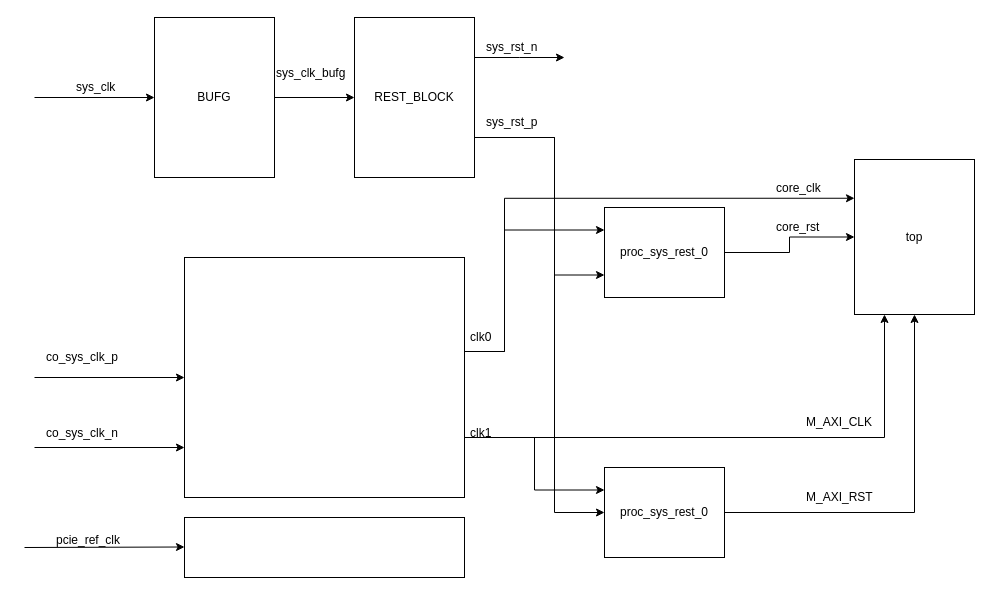
Image size: 992x595. Some labels were removed from this diagram. Each missing label, with the centre of its shape:
DDR4: the point at 324,377
xdma: the point at 324,547
